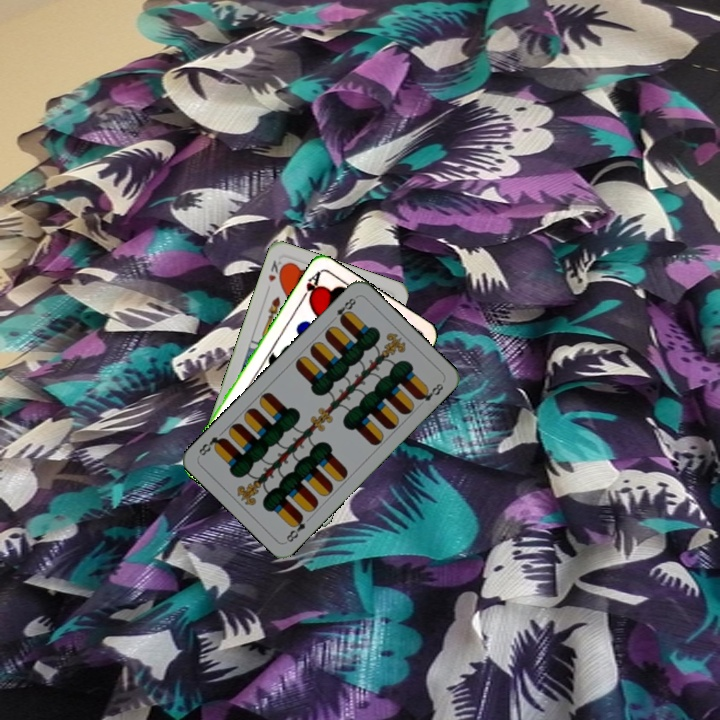E8: (327, 293, 359, 325), (282, 511, 308, 545)
HA: (296, 268, 323, 305)
HK: (264, 256, 287, 284)
